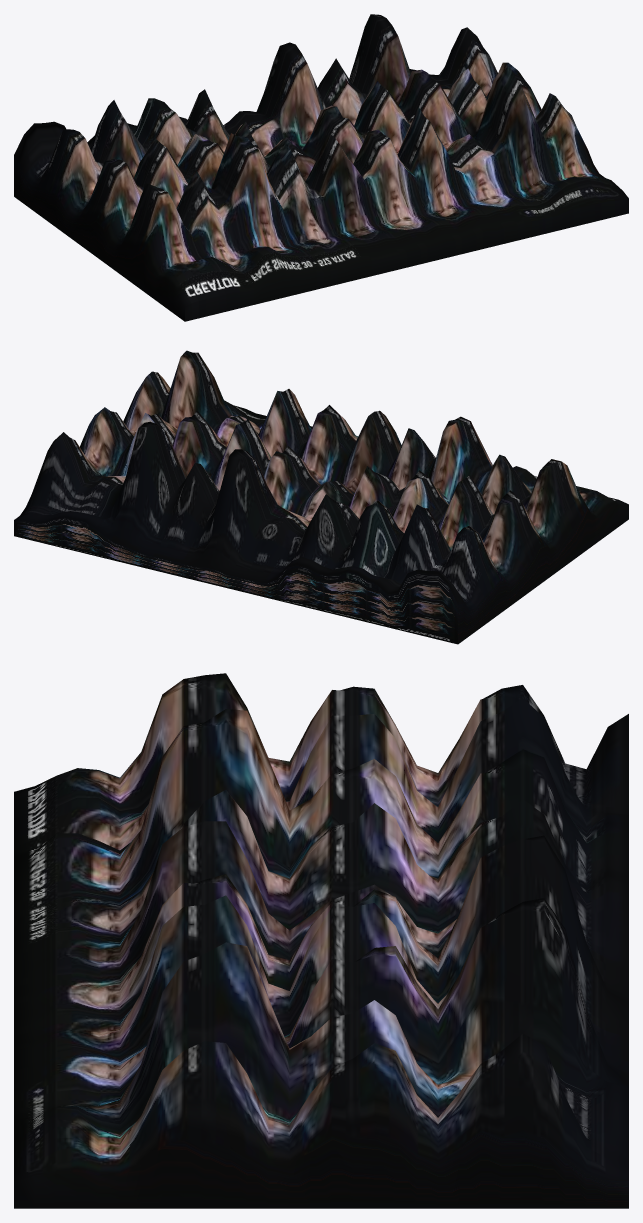
File: CREATOR_Face_Shapes_30.glb
3 renders of one model, top to bottom at view 1: azimuth 30°, elevation 25°; view 2: azimuth 150°, elevation 25°; view 3: azimuth 270°, elevation 25°, orthographic. The views are drawn at different scales.
Visible parts, largest first — view 1: CREATOR_Face_Shapes_30; view 2: CREATOR_Face_Shapes_30; view 3: CREATOR_Face_Shapes_30.
Boxes of the visible parts, box(x1,y1,x2,y2) form: CREATOR_Face_Shapes_30: box(14, 14, 628, 321); CREATOR_Face_Shapes_30: box(14, 350, 628, 644); CREATOR_Face_Shapes_30: box(14, 673, 628, 1208).
Size of the model in its own units: 2 by 0.51 by 1.33.
1 material, 1 textured.
